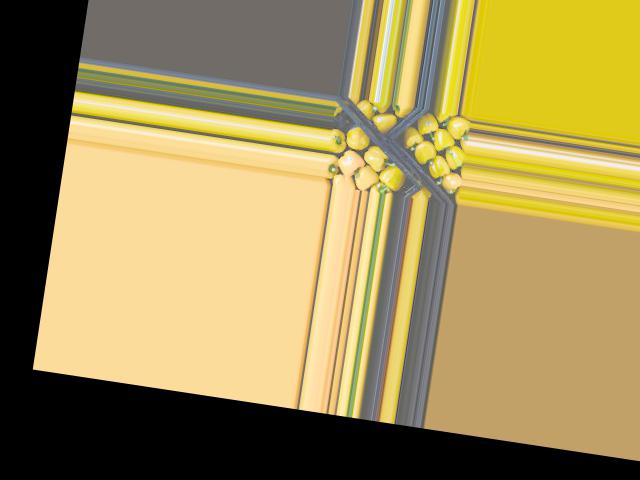bell_pepper: (441, 110, 471, 138)
